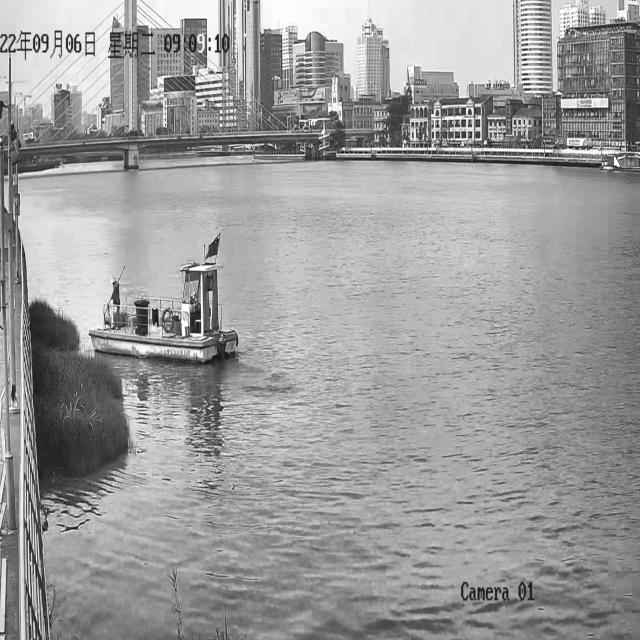ship: (88, 228, 238, 362)
